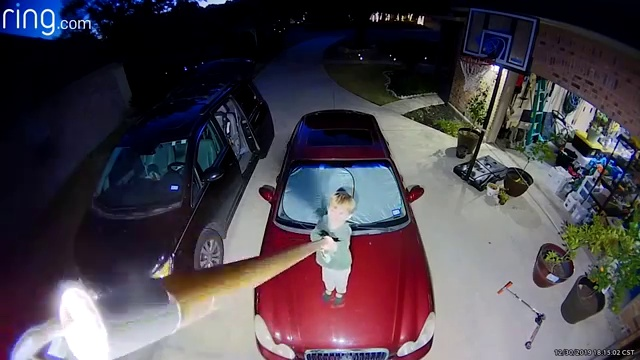face: (326, 204, 347, 227)
